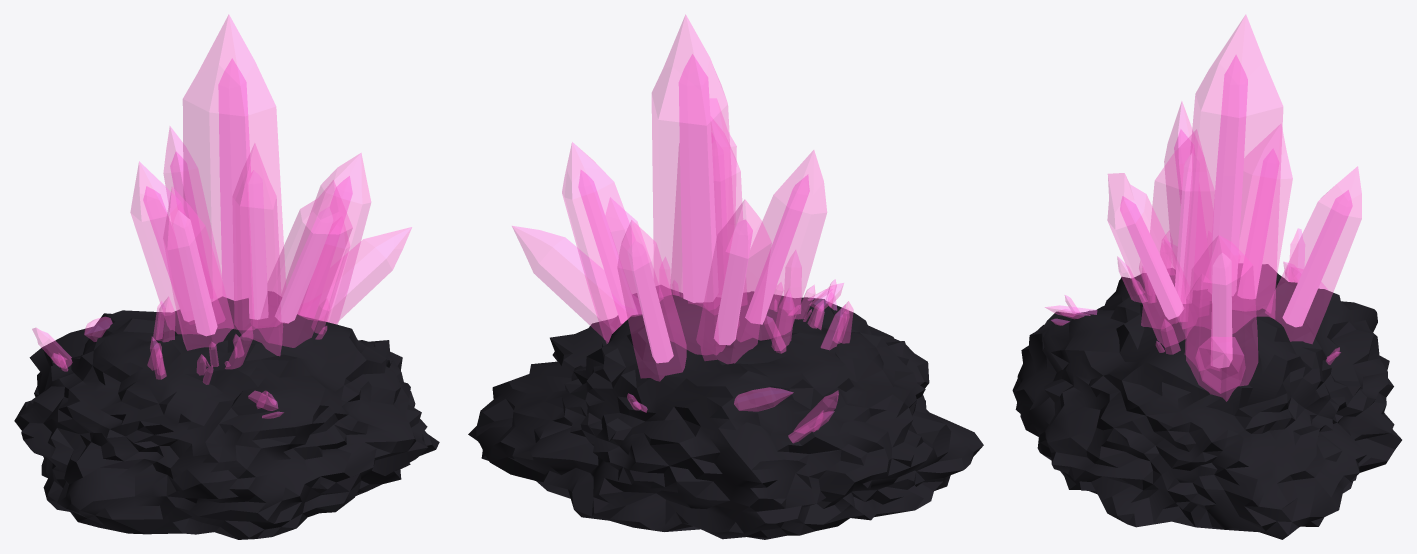
File: Crystals_04_quest.glb
3 views of the same model, side by side, from view 1: azimuth 30°, elevation 25°; view 2: azimuth 150°, elevation 25°; view 3: azimuth 270°, elevation 25° (orthographic). The views are drawn at different scales.
Visible parts, largest first — view 1: Crystals_04_Rock, Crystals_04_Crystals, Crystals_04_Cores; view 2: Crystals_04_Rock, Crystals_04_Crystals, Crystals_04_Cores; view 3: Crystals_04_Rock, Crystals_04_Crystals, Crystals_04_Cores.
Part boxes in pixels (x1,y1,x2,y2): Crystals_04_Rock: (14, 291, 439, 539); Crystals_04_Crystals: (32, 14, 411, 418); Crystals_04_Cores: (143, 58, 352, 336); Crystals_04_Rock: (468, 285, 983, 539); Crystals_04_Crystals: (512, 14, 853, 443); Crystals_04_Cores: (578, 54, 809, 363); Crystals_04_Rock: (1012, 264, 1401, 539); Crystals_04_Crystals: (1045, 15, 1361, 401); Crystals_04_Cores: (1120, 55, 1352, 367).
Bounding box in the file's own units: 1.94 × 1.99 × 1.61.
